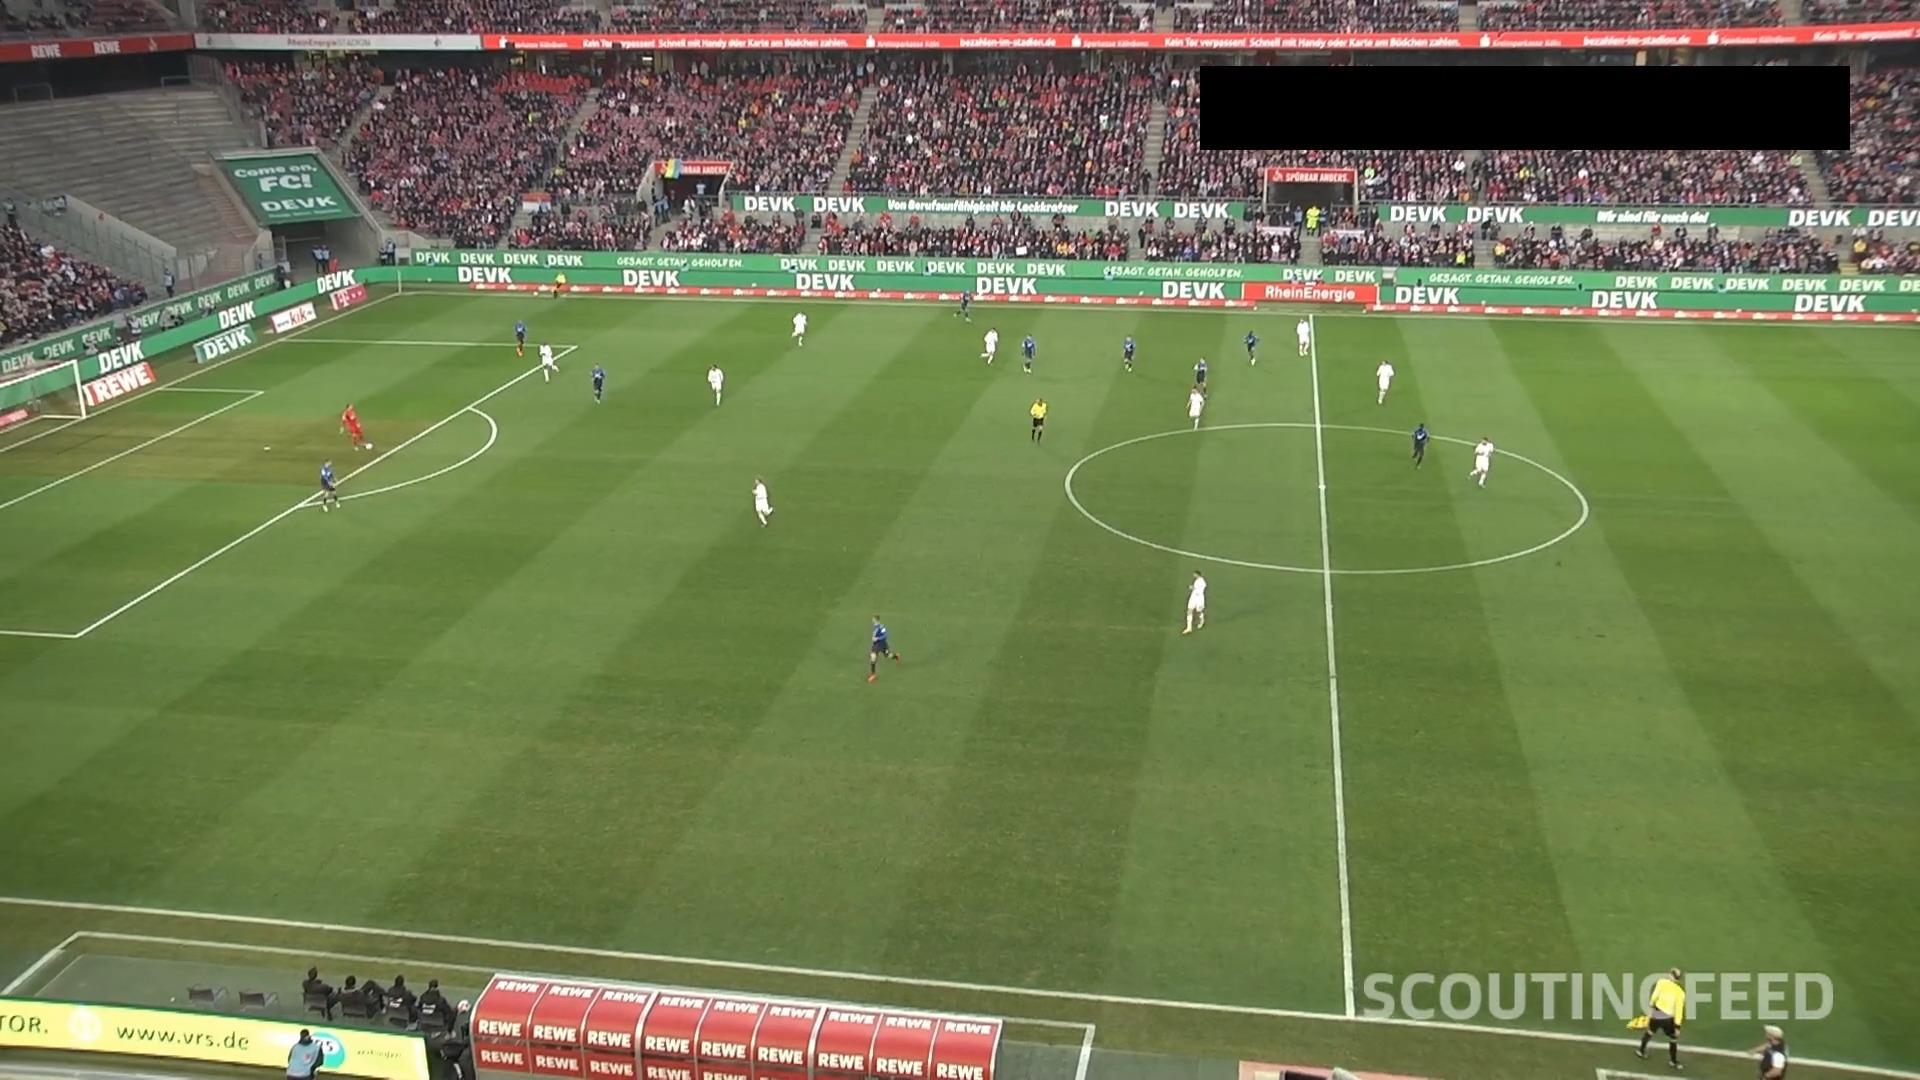ball: (365, 442, 373, 451)
